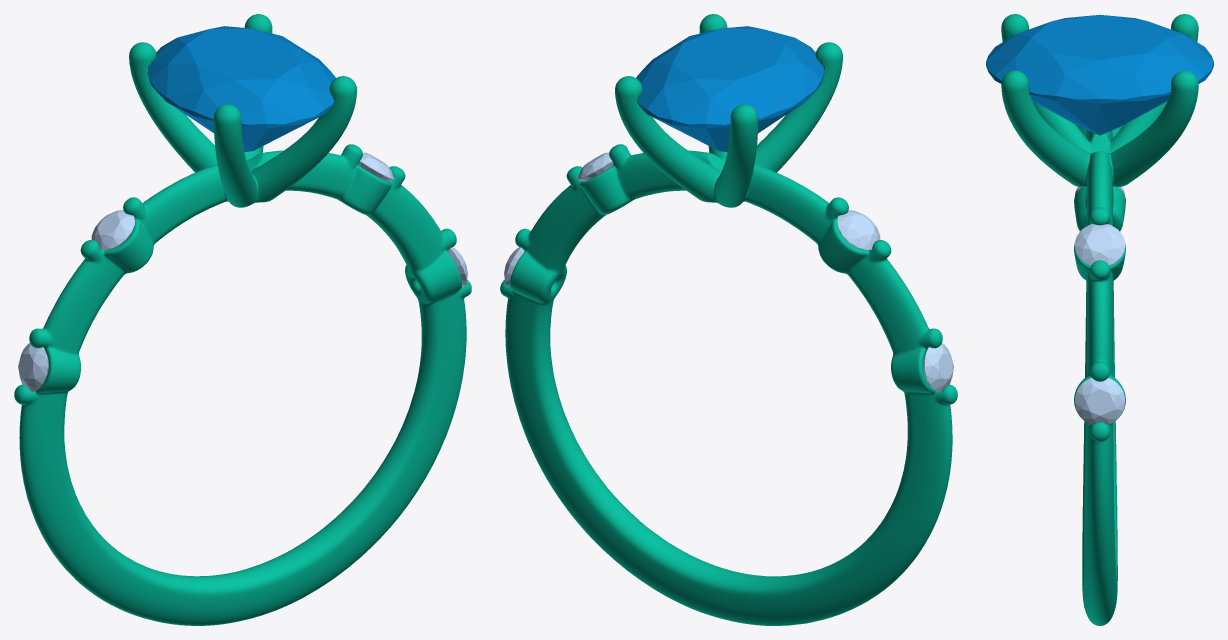
Rendered from BE1D602_OV_200ct_RENDER.glb.
The picture shows the model from 3 angles, left to right: view 1: azimuth 30°, elevation 25°; view 2: azimuth 150°, elevation 25°; view 3: azimuth 270°, elevation 25°; orthographic projection.
Parts seen in each view (by area): view 1: Metal 01, CS_Diamond_Oval, Diamond_Round_Gem_SH.002, Diamond_Round_Gem_SH.003; view 2: Metal 01, CS_Diamond_Oval, Diamond_Round_Gem_SH.002, Diamond_Round_Gem_SH.003; view 3: Metal 01, CS_Diamond_Oval, Diamond_Round_Gem_SH.001, Diamond_Round_Gem_SH.
Part boxes in pixels (bbox=[...]): Metal 01: bbox=[14, 14, 471, 625]; CS_Diamond_Oval: bbox=[147, 26, 335, 151]; Diamond_Round_Gem_SH.002: bbox=[91, 210, 134, 250]; Diamond_Round_Gem_SH.003: bbox=[18, 343, 48, 391]; Metal 01: bbox=[500, 14, 957, 625]; CS_Diamond_Oval: bbox=[636, 26, 824, 152]; Diamond_Round_Gem_SH.002: bbox=[837, 210, 880, 250]; Diamond_Round_Gem_SH.003: bbox=[923, 343, 953, 391]; Metal 01: bbox=[1001, 14, 1198, 625]; CS_Diamond_Oval: bbox=[986, 14, 1213, 135]; Diamond_Round_Gem_SH.001: bbox=[1074, 378, 1125, 424]; Diamond_Round_Gem_SH: bbox=[1075, 224, 1125, 265].
Bounding box in the file's own units: 20.76 × 24.66 × 9.
